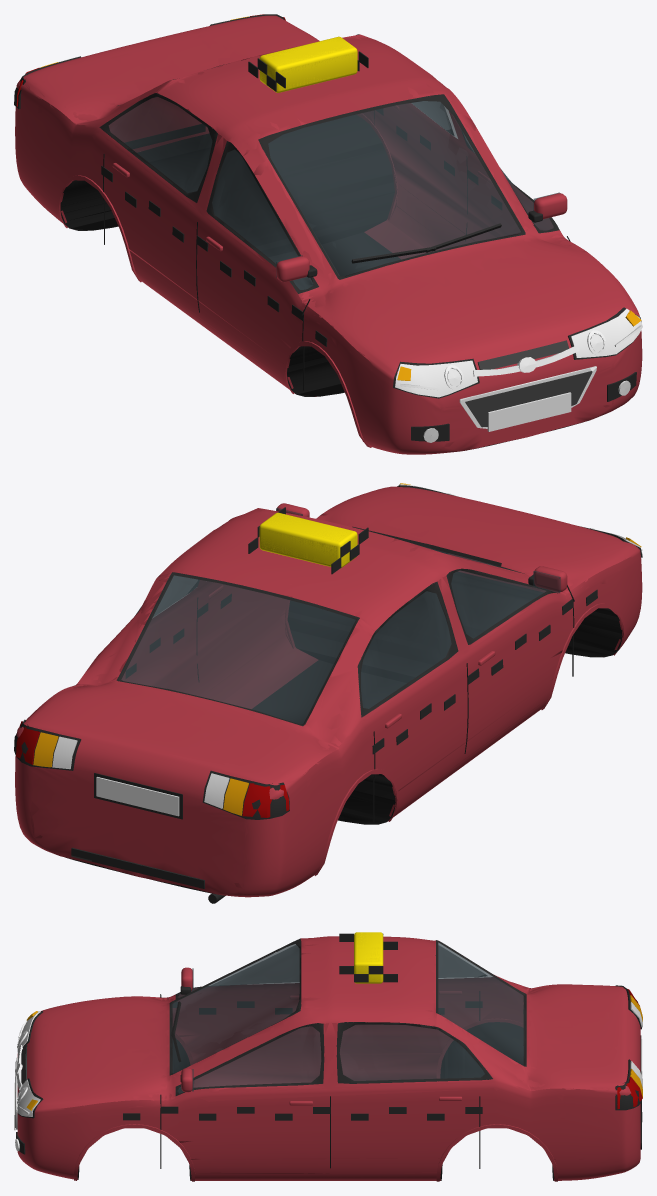
File: taxi.glb
3 renders of one model, top to bottom at view 1: azimuth 30°, elevation 25°; view 2: azimuth 150°, elevation 25°; view 3: azimuth 270°, elevation 25°, orthographic. The views are drawn at different scales.
Parts seen in each view (by area): view 1: LOD_hi, LOD0; view 2: LOD_hi, LOD0; view 3: LOD_hi, LOD0.
Part boxes in pixels (x1,y1,x2,y2): LOD_hi: [14, 14, 642, 454]; LOD0: [17, 14, 637, 448]; LOD_hi: [14, 483, 642, 902]; LOD0: [22, 483, 640, 903]; LOD_hi: [14, 932, 642, 1181]; LOD0: [15, 932, 642, 1180].
Size of what is drawn, in the model's own units: 1.82 by 1.46 by 4.3.
